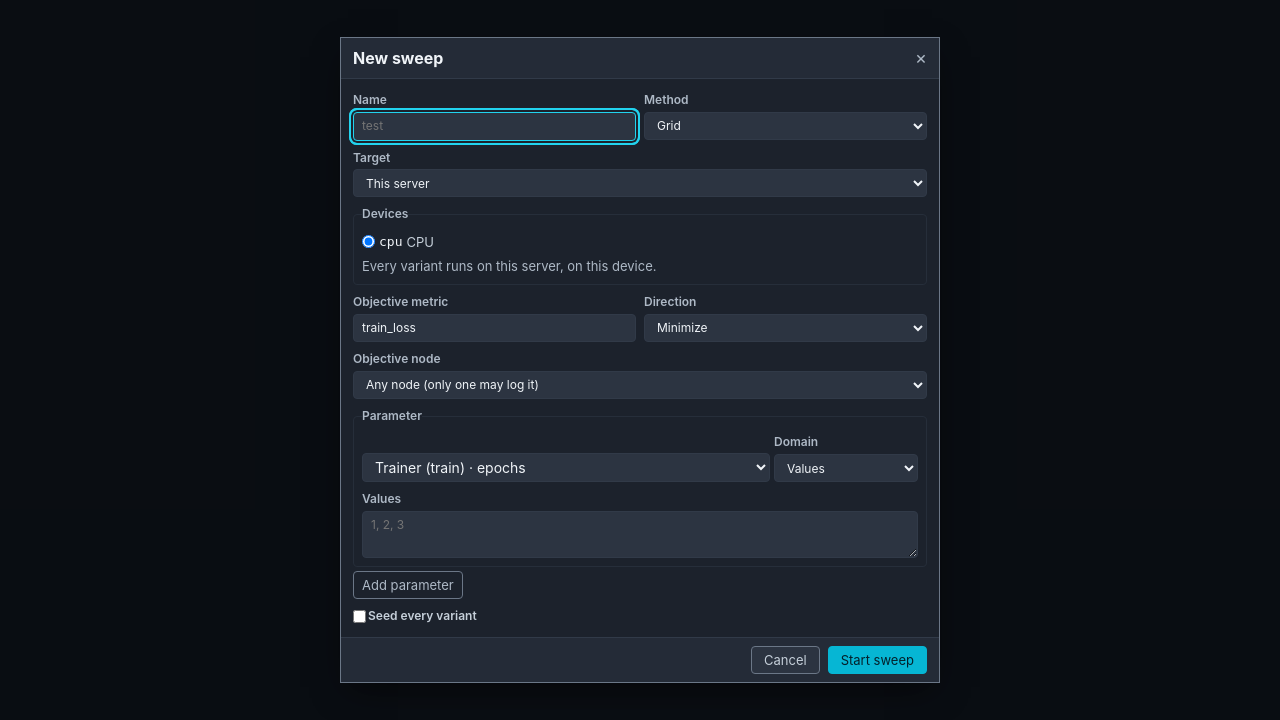
NewSweepDialog › shows local and server validation errors without closing
Step 1. Type "not-an-int" into the text box labelled "Values" → (640, 534), box [362,511,918,558]
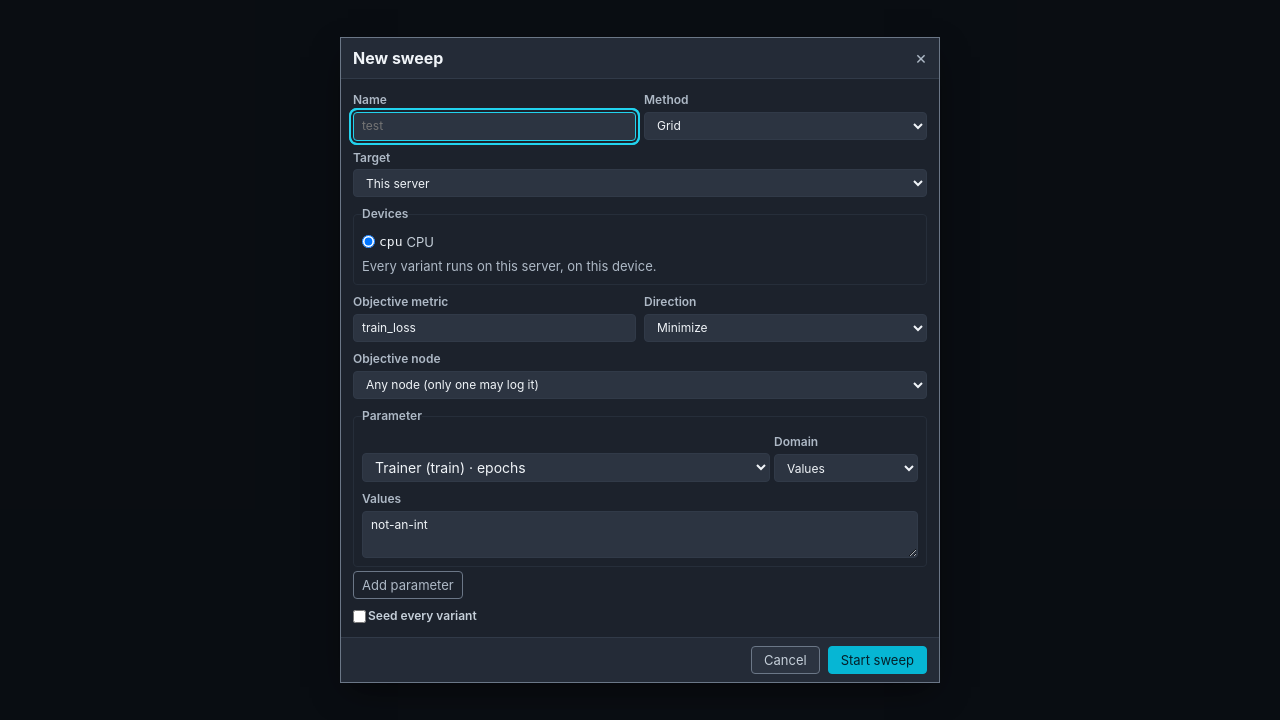
Step 2. Click the button "Start sweep" → (877, 660), box [828,646,927,674]
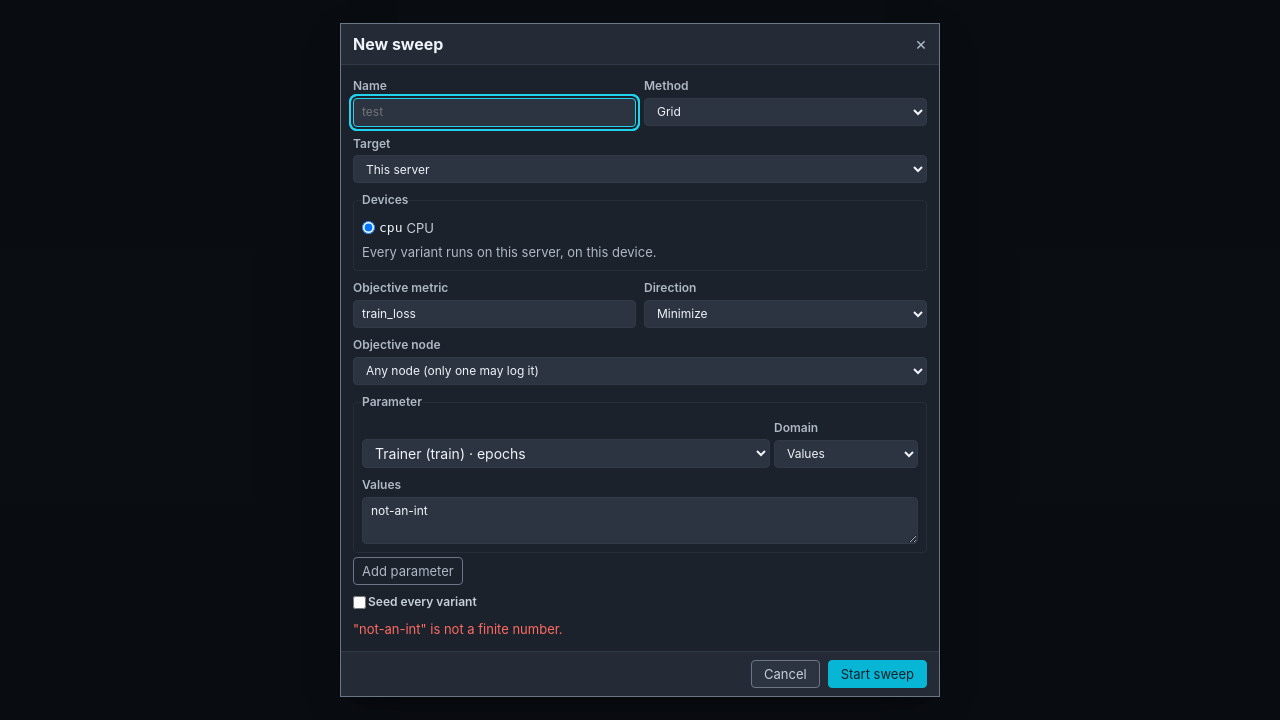
Result: the message reads "\"not-an-int\" is not a finite number." at [353,621,562,637]
Step 3. Replace the text in the text box labelled "Values" with "2, 4" → (640, 520), box [362,496,918,544]
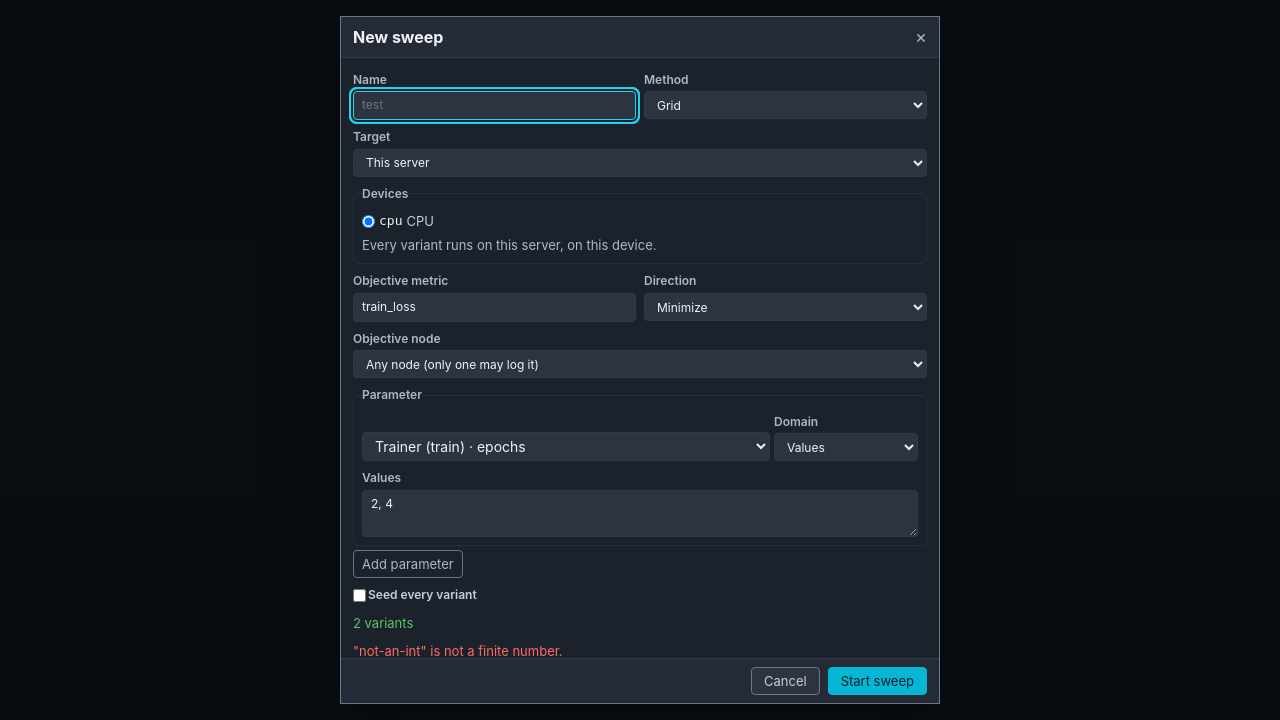
Step 4. Click the button "Start sweep" → (877, 681), box [828,667,927,695]
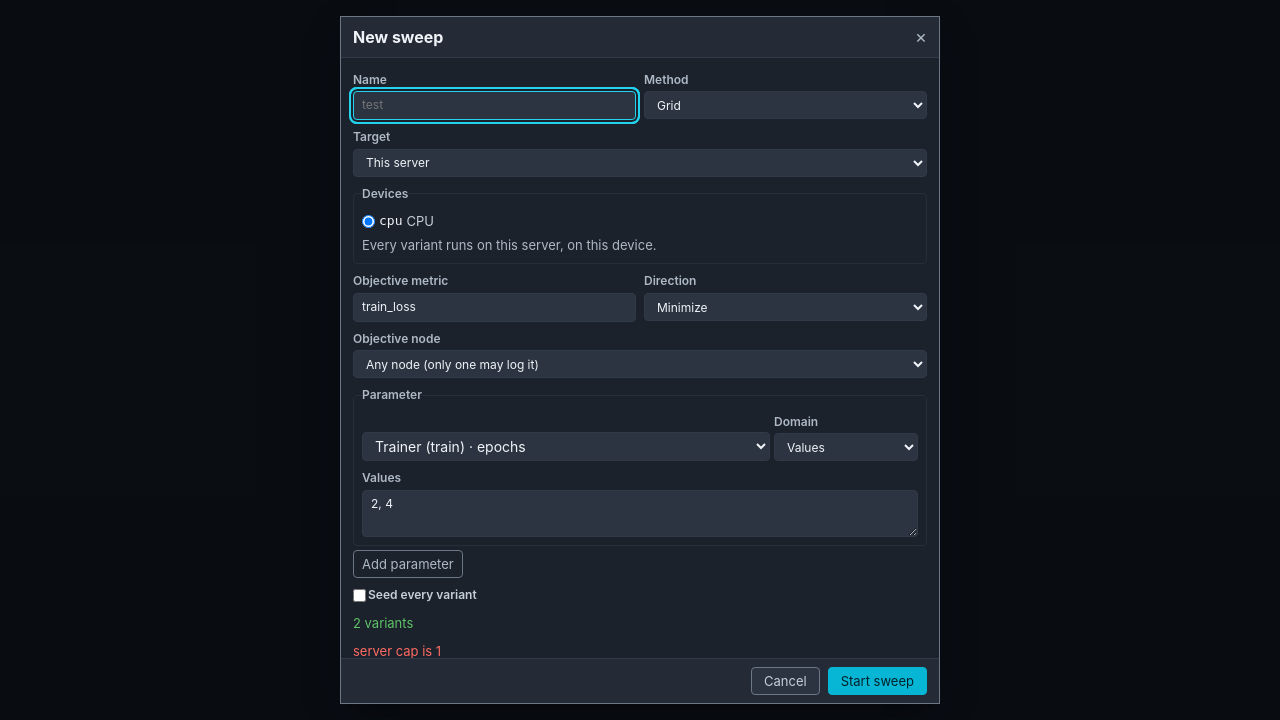
Result: the message reads "server cap is 1" at [353,643,441,659]
